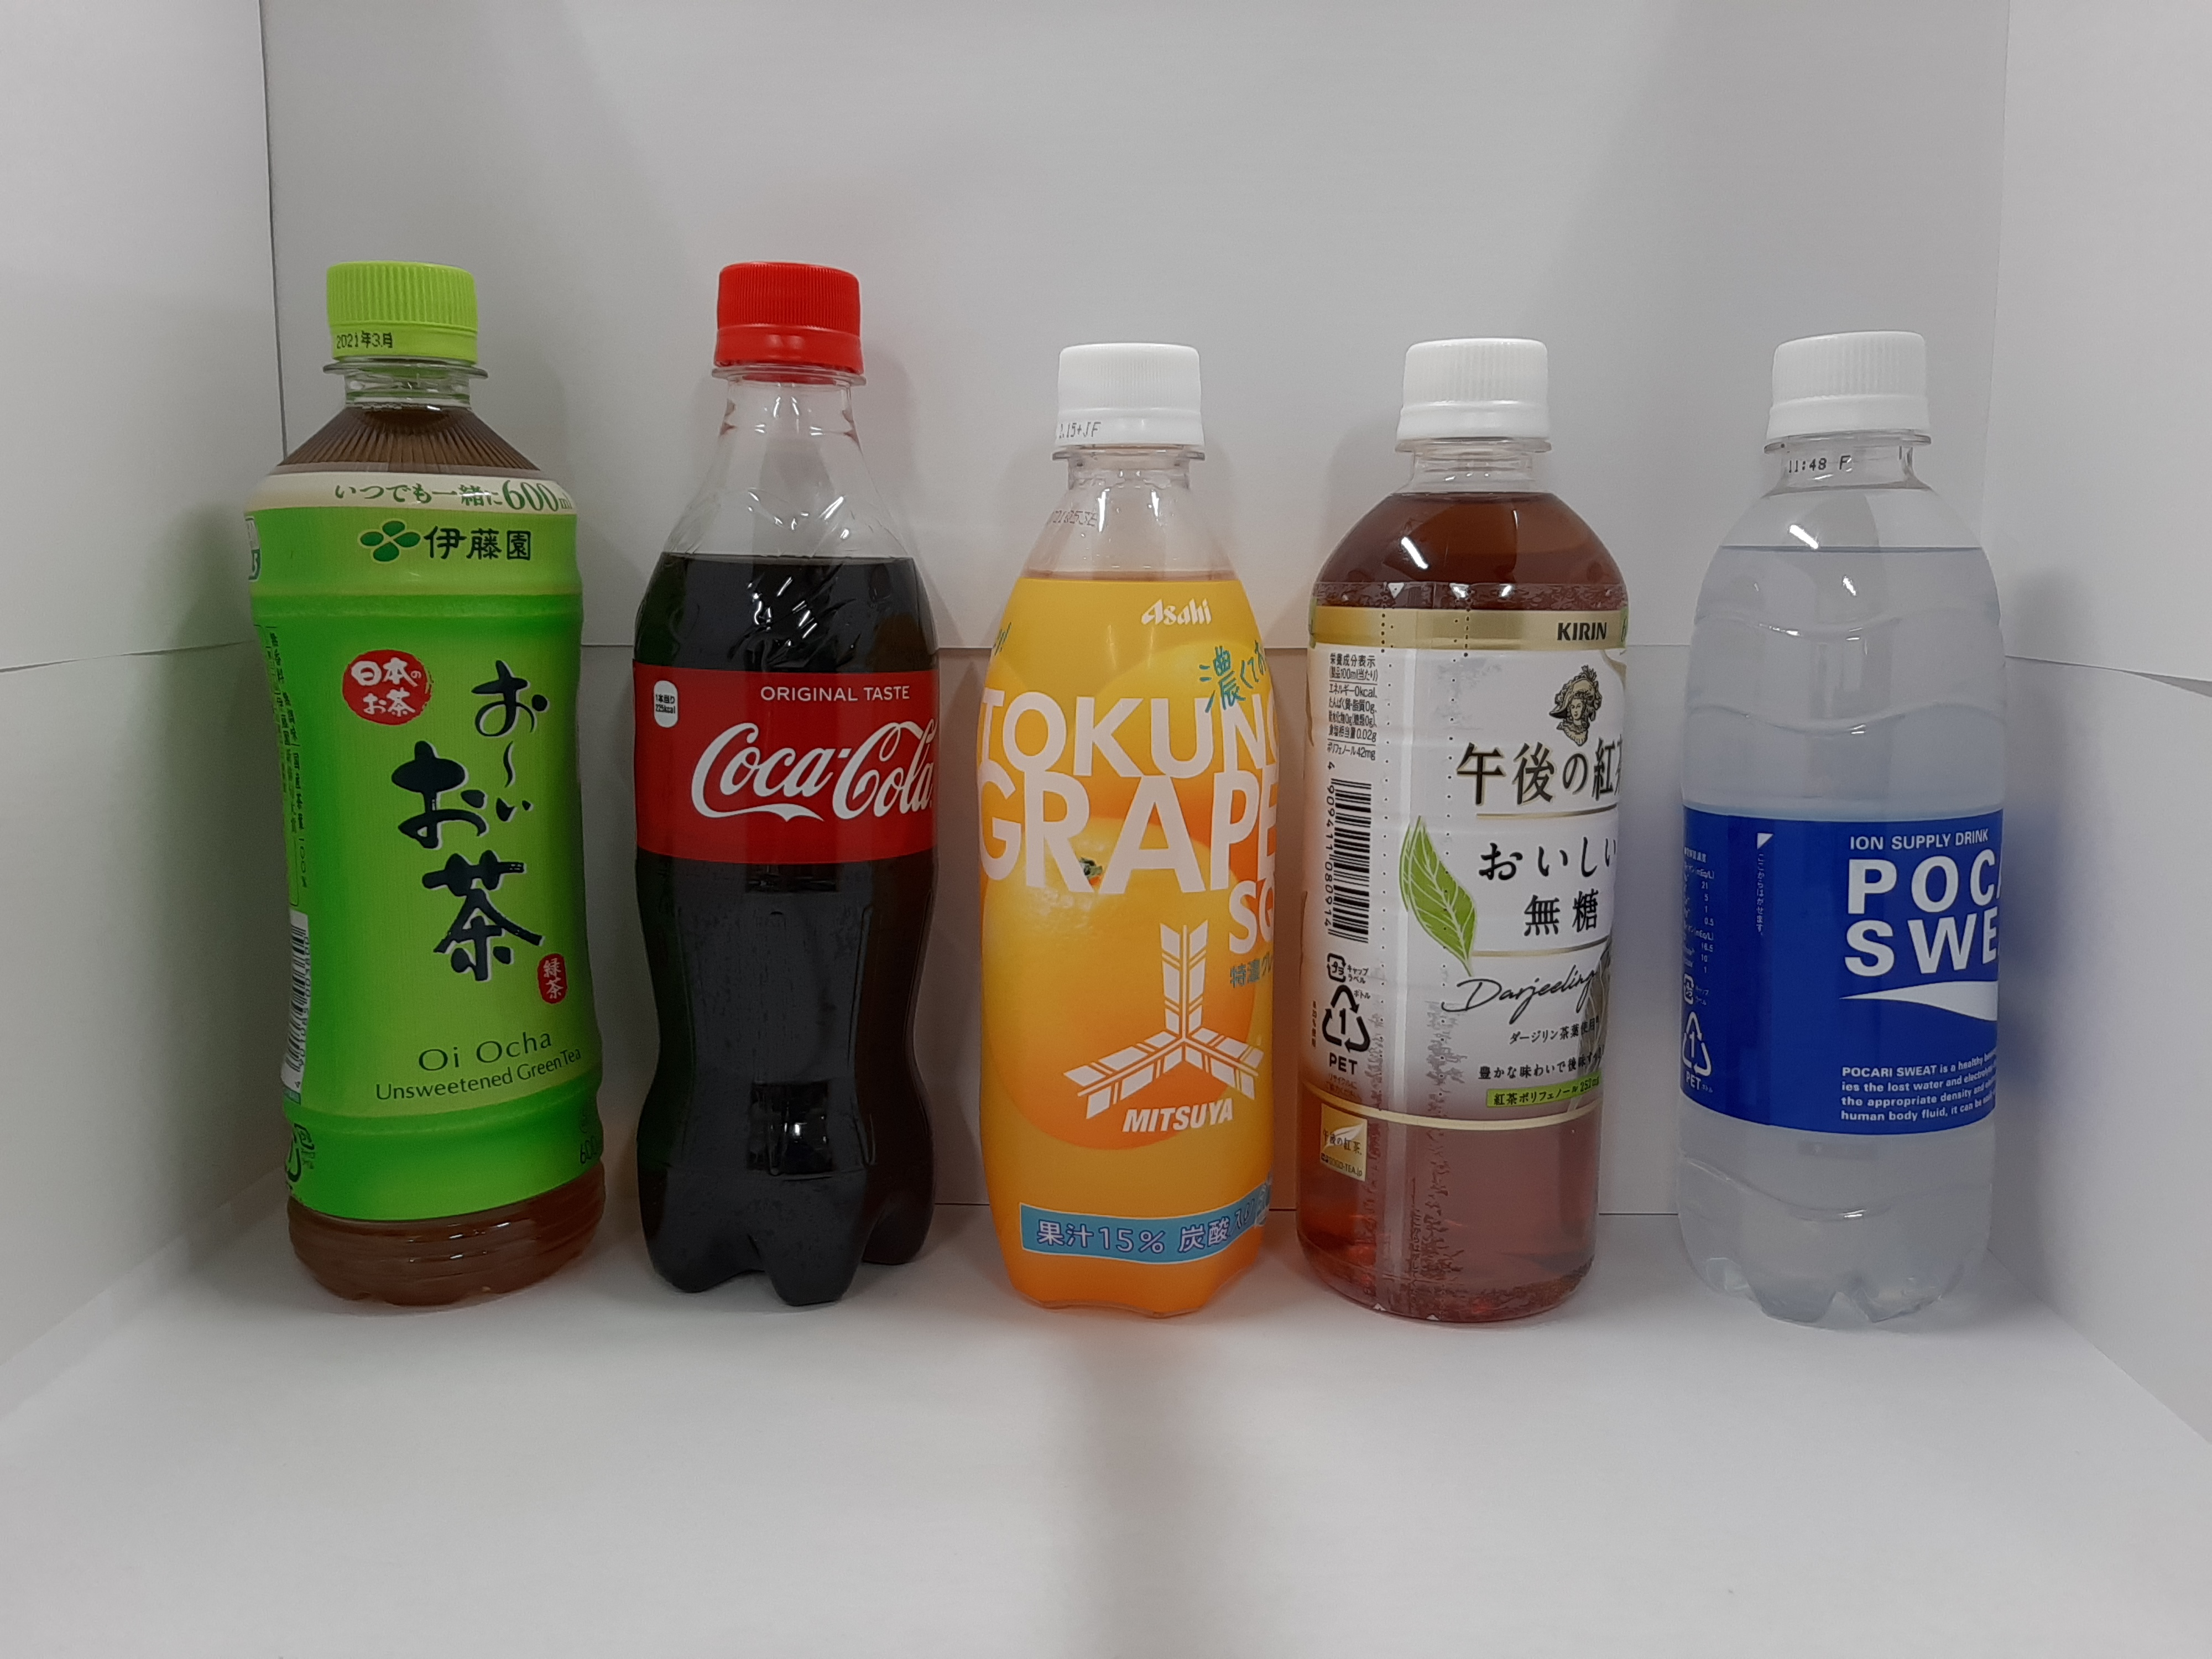おーいお茶: (209, 242, 625, 1331)
グレープフルーツスカッシュ: (954, 315, 1296, 1335)
コーラ: (603, 237, 960, 1337)
ポカリスエット: (1649, 307, 2038, 1345)
午後の紅茶: (1287, 321, 1665, 1342)
